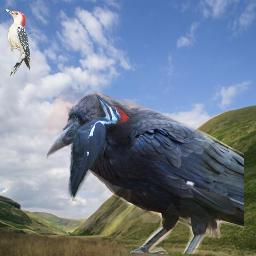Crow: (45, 89, 244, 254)
Woodpecker: (66, 91, 129, 202), (3, 8, 30, 76)
